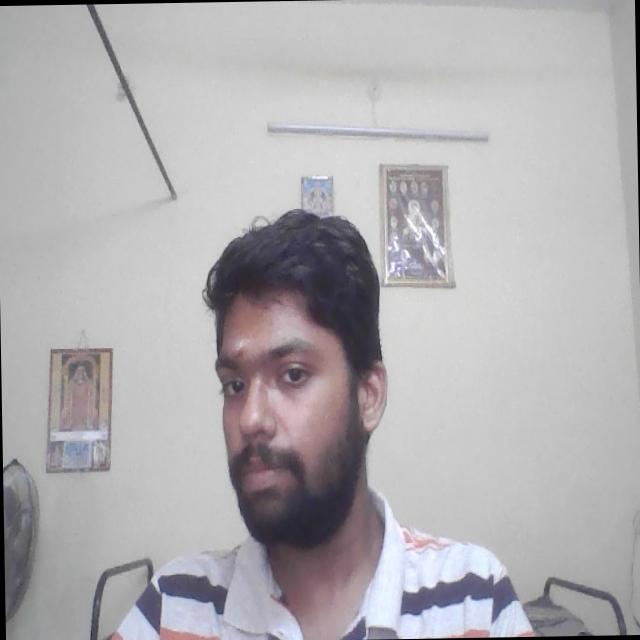Focused: (207, 298, 373, 508)
